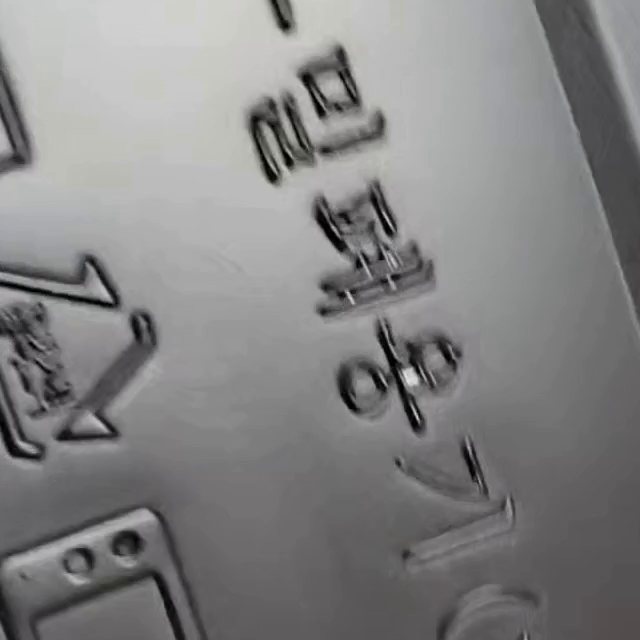Plastic: (2, 261, 157, 464)
